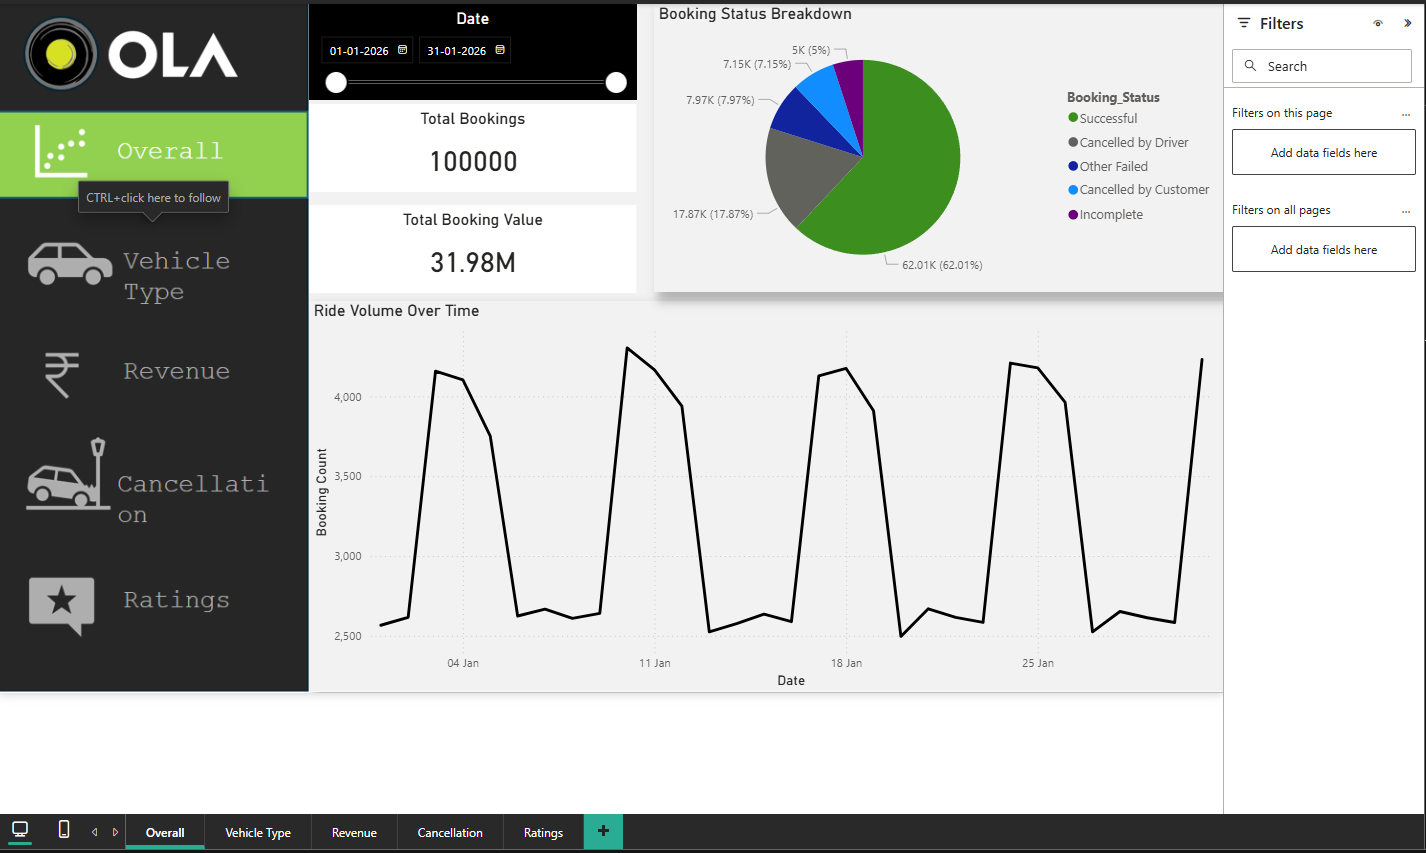

The dashboard page shown, as its layout file describes it:
{"tool":"powerbi","page":{"name":"Overall","canvas":[1280,720],"ordinal":0},"visuals":[{"type":"actionButton","box":[0,232,325.3,93.3],"z":0},{"type":"actionButton","box":[0,339.6,325.3,91.6],"z":1000},{"type":"actionButton","box":[0,451.6,325.3,94.2],"z":2000},{"type":"actionButton","box":[0,581.3,325.3,91.6],"z":3000},{"type":"lineChart","title":"Ride Volume Over Time","fields":{"Category":["Table1.Date"],"Y":["CountNonNull(Table1.Booking_ID)"]},"box":[324.9,310.3,955.1,409.5],"z":4000},{"type":"pieChart","title":"Booking Status Breakdown","fields":{"Category":["Table1.Booking_Status"],"Y":["CountNonNull(Table1.Booking_ID)"]},"box":[685.3,0,594.7,301.3],"z":5000},{"type":"slicer","title":"      Date","fields":{"Values":["Table1.Date"]},"box":[325.3,0,342.2,100.4],"z":6000},{"type":"card","title":"Total Bookings","fields":{"Values":["CountNonNull(Table1.Booking_ID)"]},"box":[324.4,104.9,342.2,91.6],"z":7000},{"type":"card","title":"Total Booking Value","fields":{"Values":["Sum(Table1.Booking_Value)"]},"box":[324.4,209.8,342.2,91.6],"z":8000}]}

Visuals, with their boxes on the page's 1280x720 design canvas (x1, y1, x2, y2). These are canvas units, not pixel positions in the 1426x853 screenshot, which may show the page scaled, cropped or inside an application window:
actionButton: 0,232,325,325
actionButton: 0,340,325,431
actionButton: 0,452,325,546
actionButton: 0,581,325,673
"Ride Volume Over Time" lineChart: 325,310,1280,720
"Booking Status Breakdown" pieChart: 685,0,1280,301
"      Date" slicer: 325,0,668,100
"Total Bookings" card: 324,105,667,196
"Total Booking Value" card: 324,210,667,301
